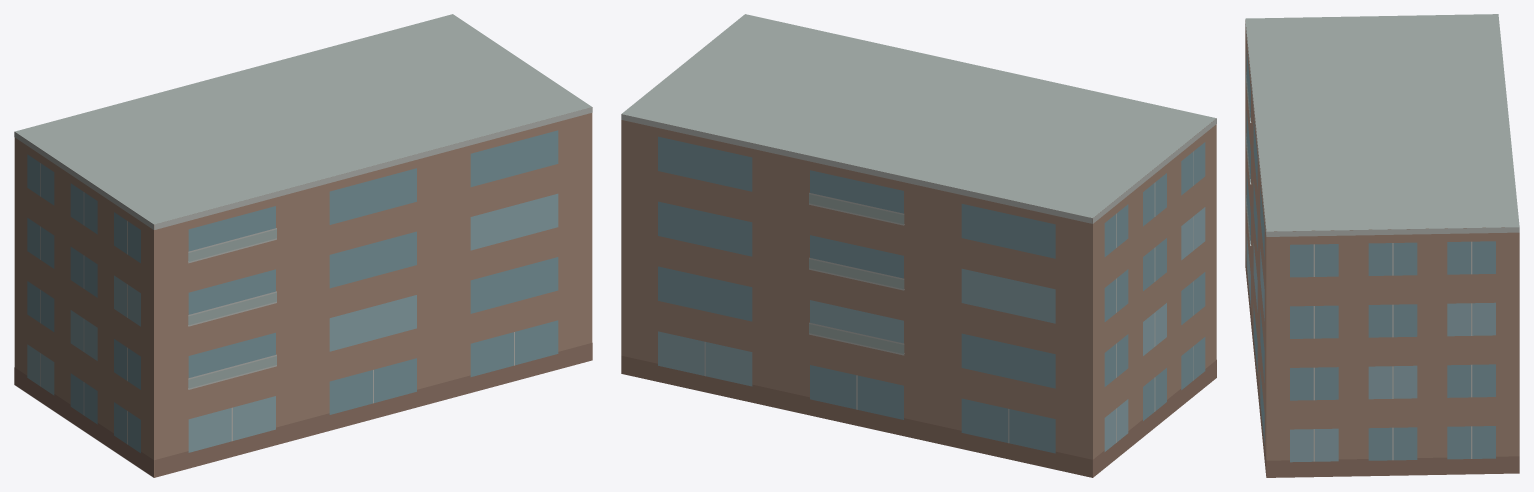
The model's file is survey-upis-32661910.glb.
3 views of the same model, side by side, from view 1: azimuth 30°, elevation 25°; view 2: azimuth 150°, elevation 25°; view 3: azimuth 270°, elevation 25° (orthographic). The views are drawn at different scales.
Visible parts, largest first — view 1: survey-upis-32661910.tmp; view 2: survey-upis-32661910.tmp; view 3: survey-upis-32661910.tmp.
Boxes of the visible parts, x1,y1,x2,y2 form: survey-upis-32661910.tmp: (14, 14, 592, 477); survey-upis-32661910.tmp: (621, 14, 1216, 477); survey-upis-32661910.tmp: (1245, 14, 1519, 477).
Size of the model in its own units: 20.85 by 11 by 11.12.
